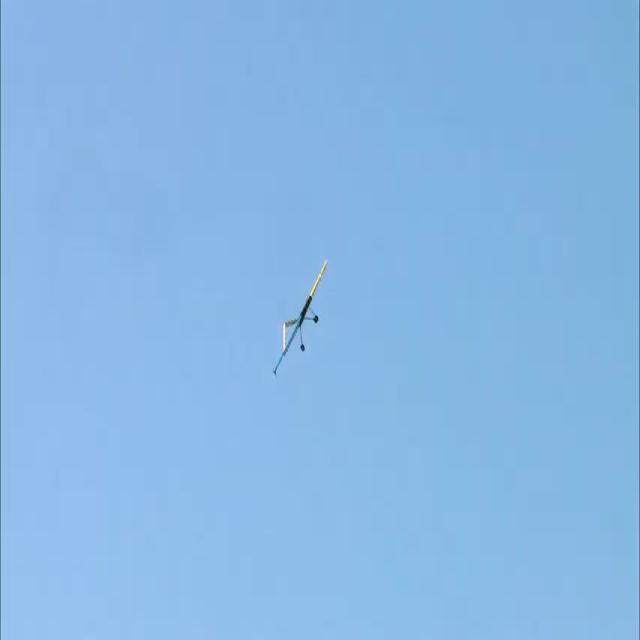iha: (272, 291, 328, 342)
